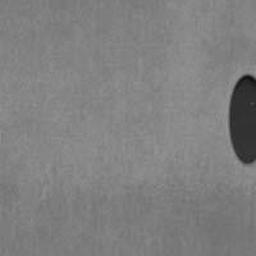Punching: (228, 74, 256, 165)
